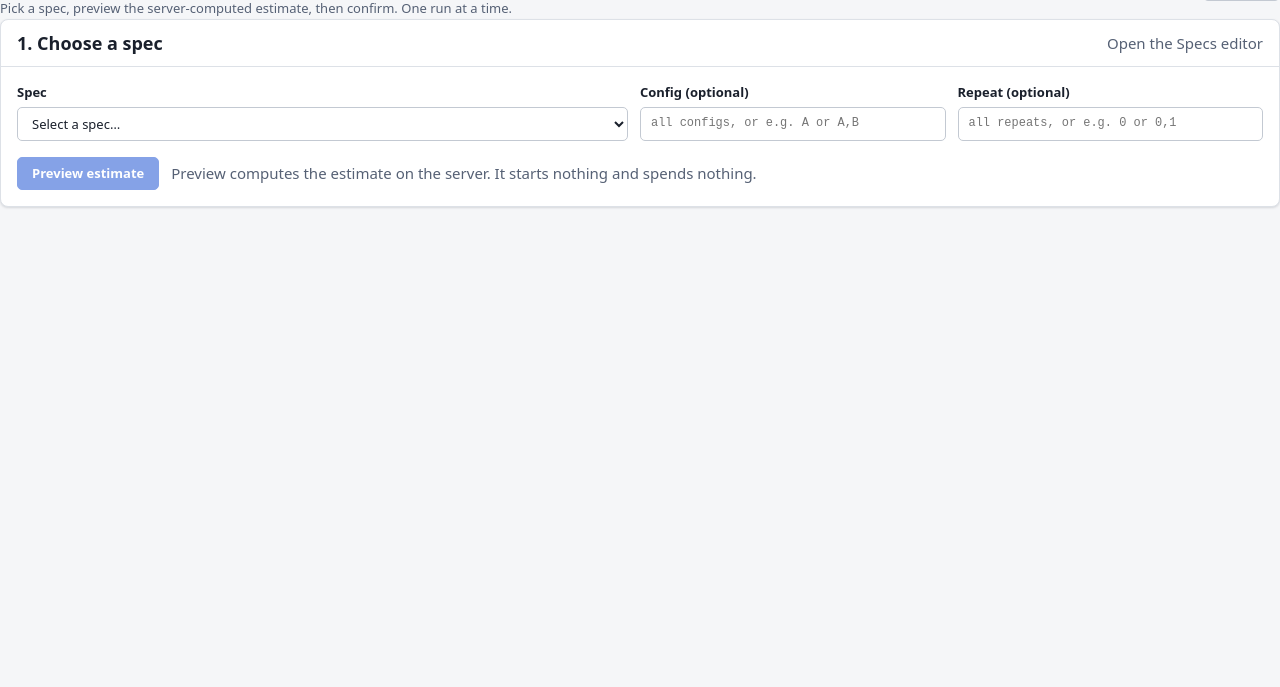
Nonce lifecycle and conflicts › 409 run_active shows the server text and keeps the nonce usable
This screenshot has width=1280, height=687.
Select "pilot-scripted [scripted]" in the dropdown labelled "Spec" at coordinates (322, 124), box top-left (17, 106), bottom-right (628, 140)
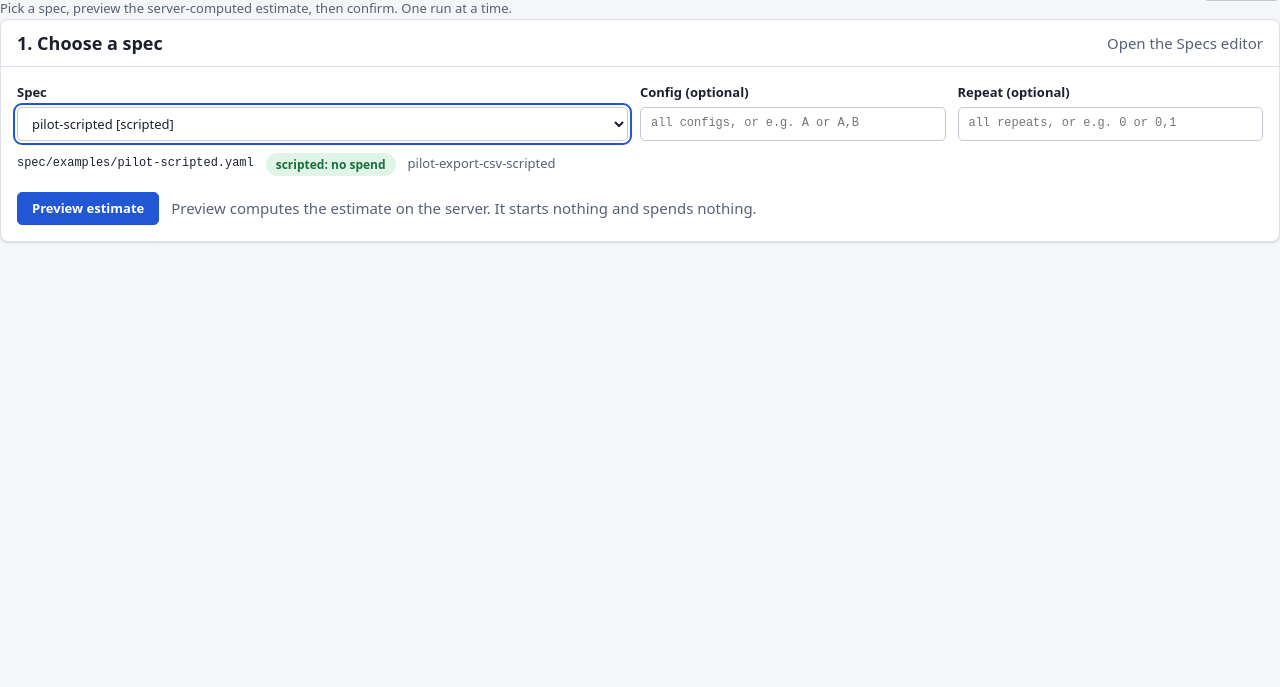
Click the button "Preview estimate" at coordinates (88, 208), box top-left (17, 192), bottom-right (159, 225)
(page scrolled)
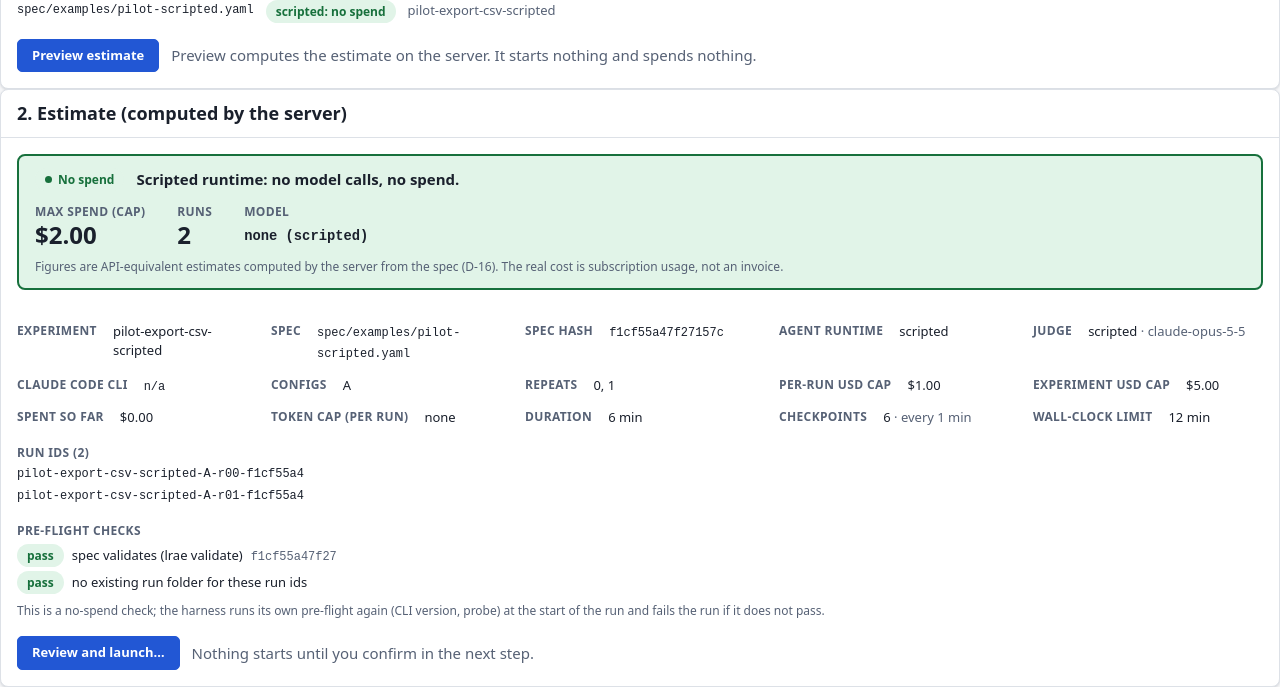
Expected: the heading "2. Estimate (computed by the server)" is shown, top-left (17, 102), bottom-right (347, 125)
Click the button "Review and launch…" at coordinates (98, 653), box top-left (17, 636), bottom-right (180, 670)
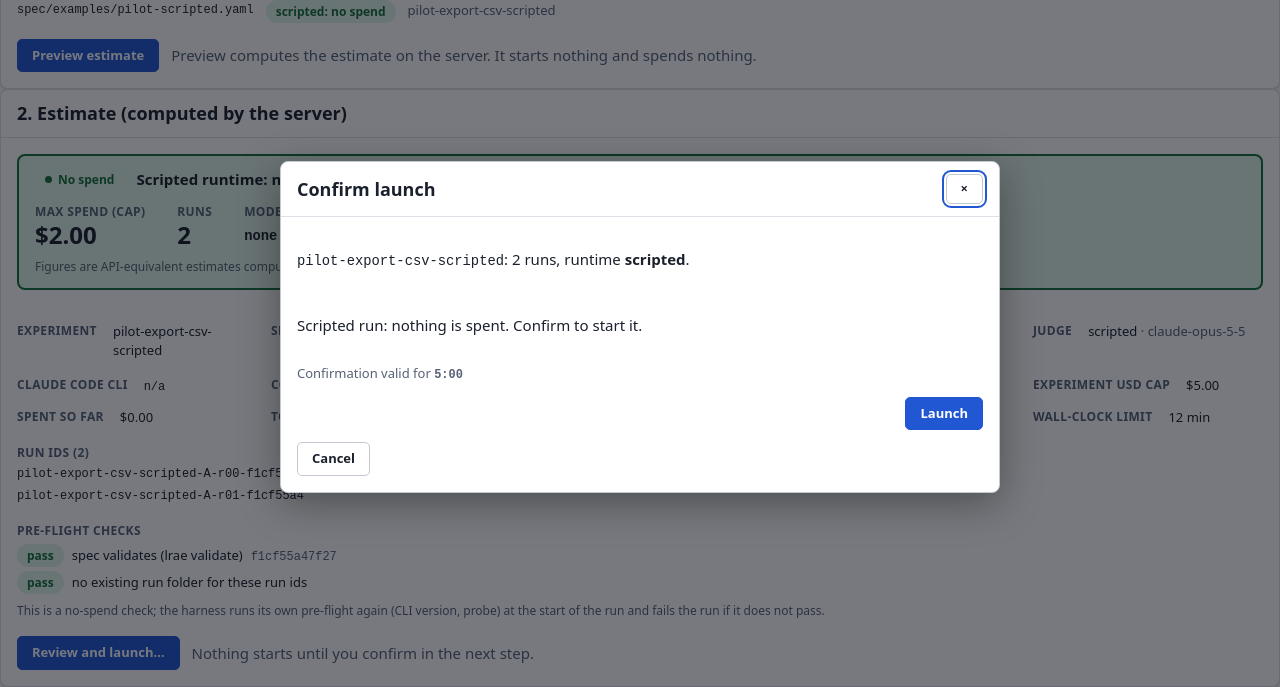
Click the button "Launch" at coordinates (944, 414), box top-left (906, 397), bottom-right (983, 430)
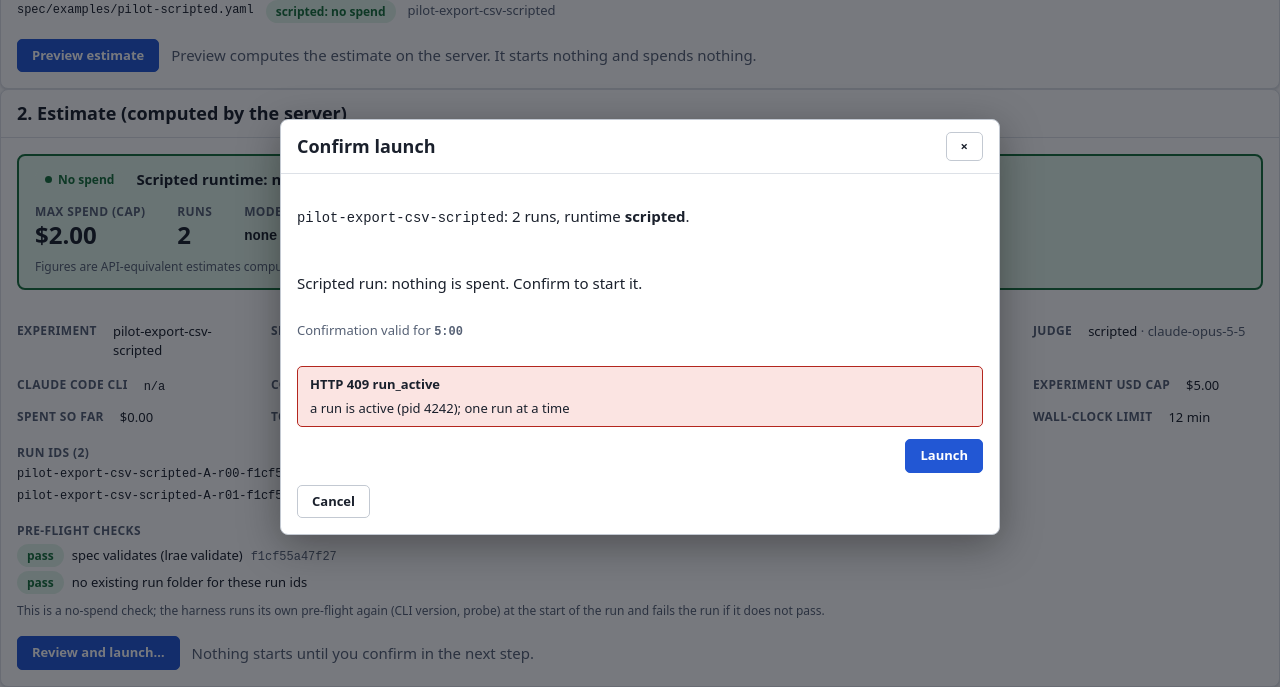
Expected: the button "Launch" is enabled, top-left (906, 439), bottom-right (983, 473)
Expected: the message "HTTP 409 run_active a run is active (pid 4242); one run at a time" is shown, top-left (297, 366), bottom-right (983, 427)
